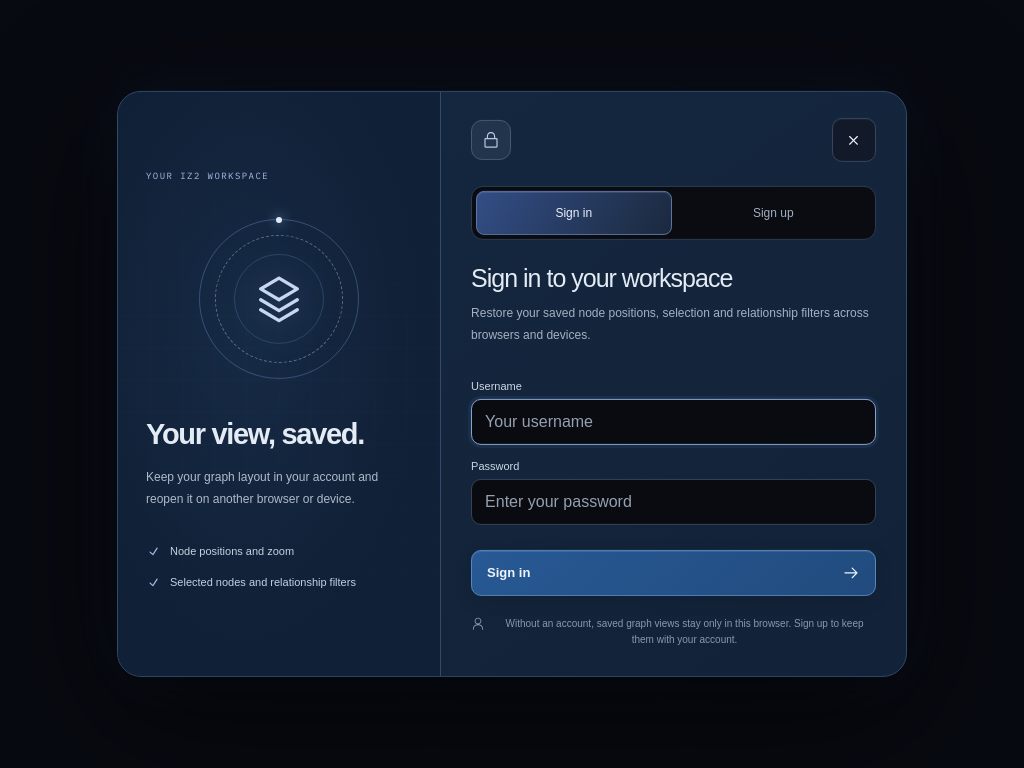
account registration and password rotation › switches account tabs by keyboard and clears the password when switching modes
This screenshot has width=1024, height=768.
Expected: the button "Sign in" is enabled, top-left (471, 550), bottom-right (876, 596)
Type "temporary-secret" into the password field labelled "Password" at x=674, y=502, box top-left (471, 479), bottom-right (876, 525)
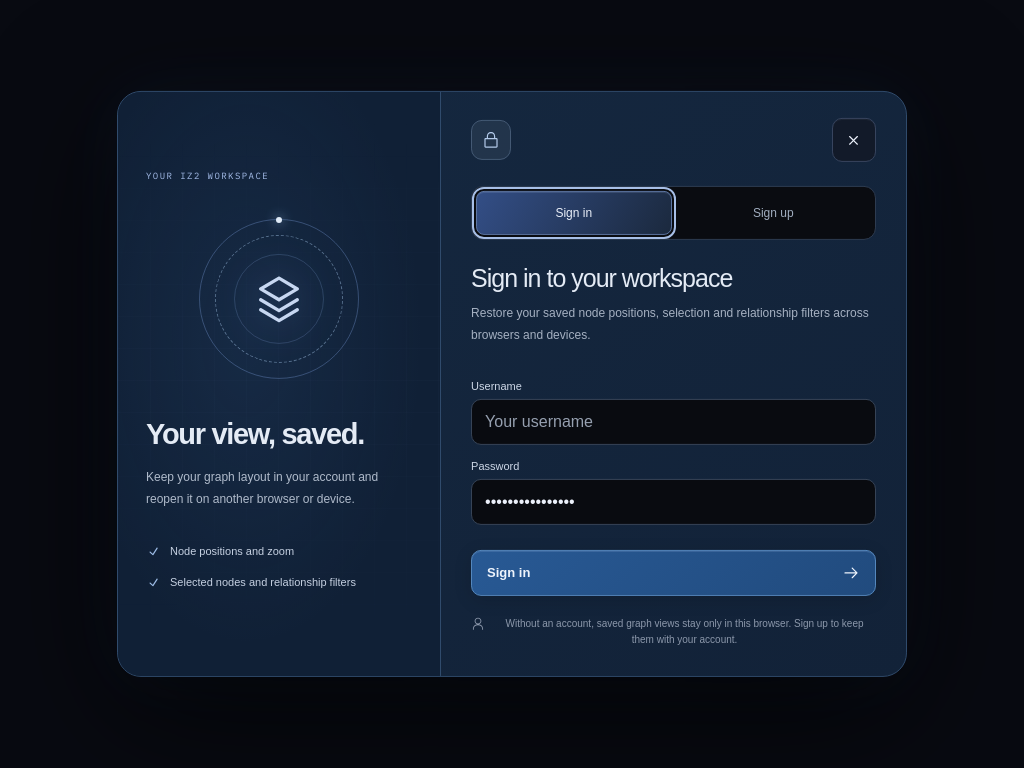
Press ArrowRight in the tab "Sign in", box top-left (476, 191), bottom-right (672, 235)
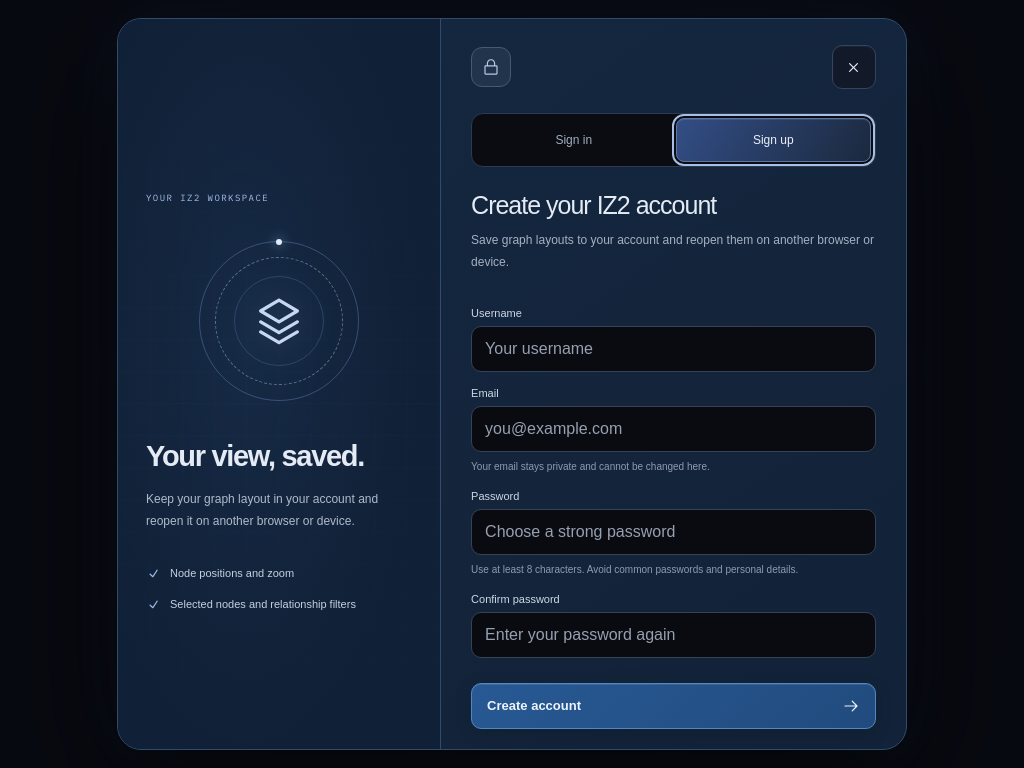
Now the password field labelled "Password" is empty, box top-left (471, 509), bottom-right (876, 555)
Now the dialog named "Create your IZ2 account" is shown
